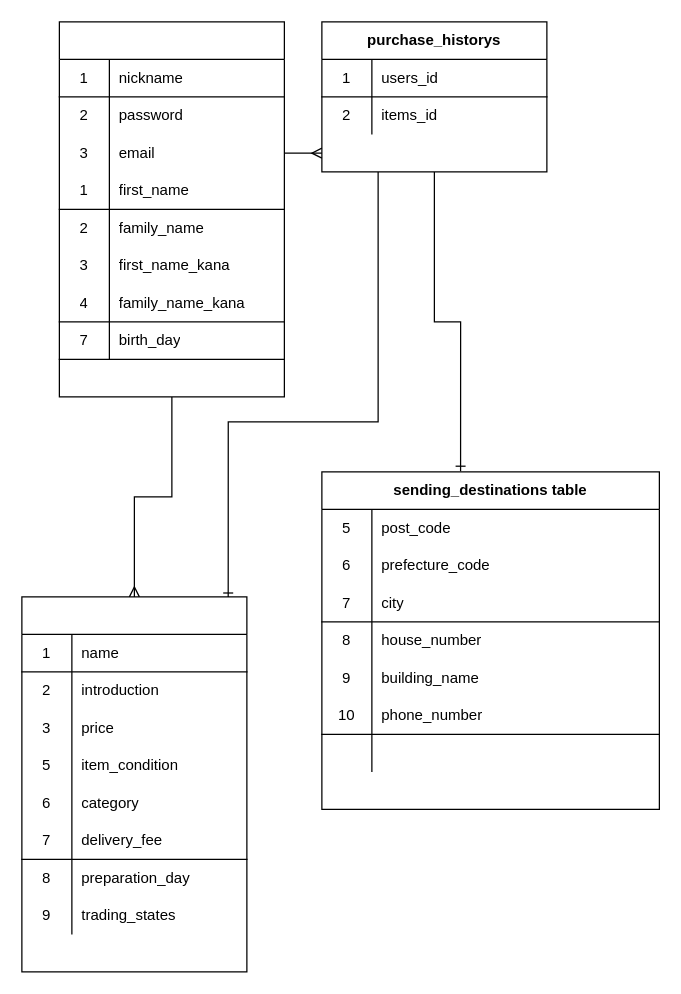
This 681x994 diagram has some shape labels left out. The shapes that lost their labels are listed below. From the top down, each one's box as (x1, y1, x2, y2) in pixels, then its label:
(58, 21, 284, 397): users table
(21, 596, 247, 972): items table
